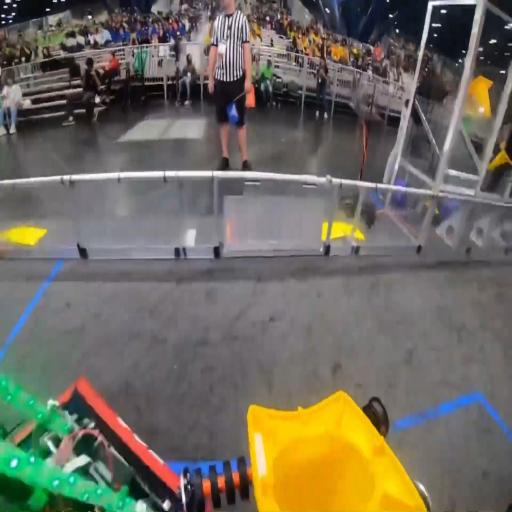robot: (0, 374, 189, 512)
